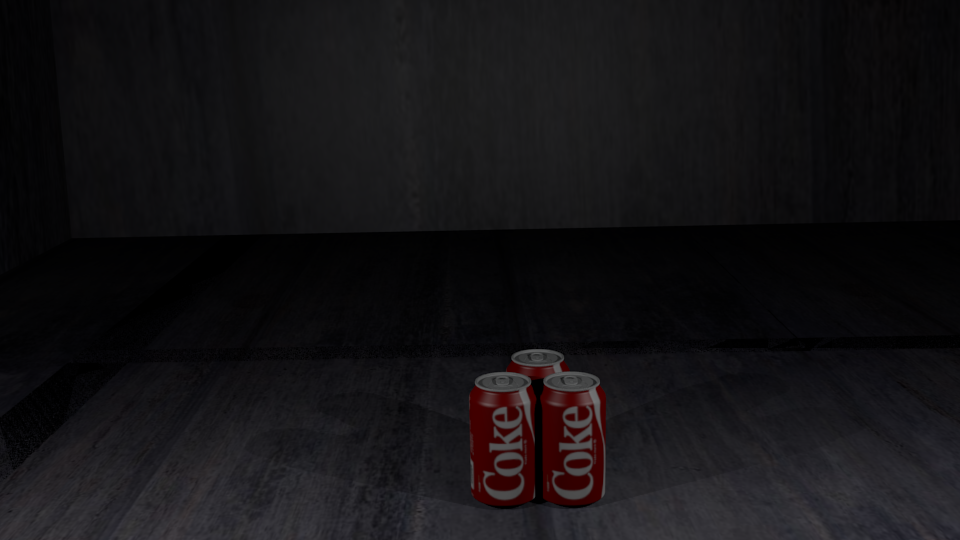cola_can: (469, 372, 536, 502), (538, 372, 605, 501), (506, 349, 568, 471)
